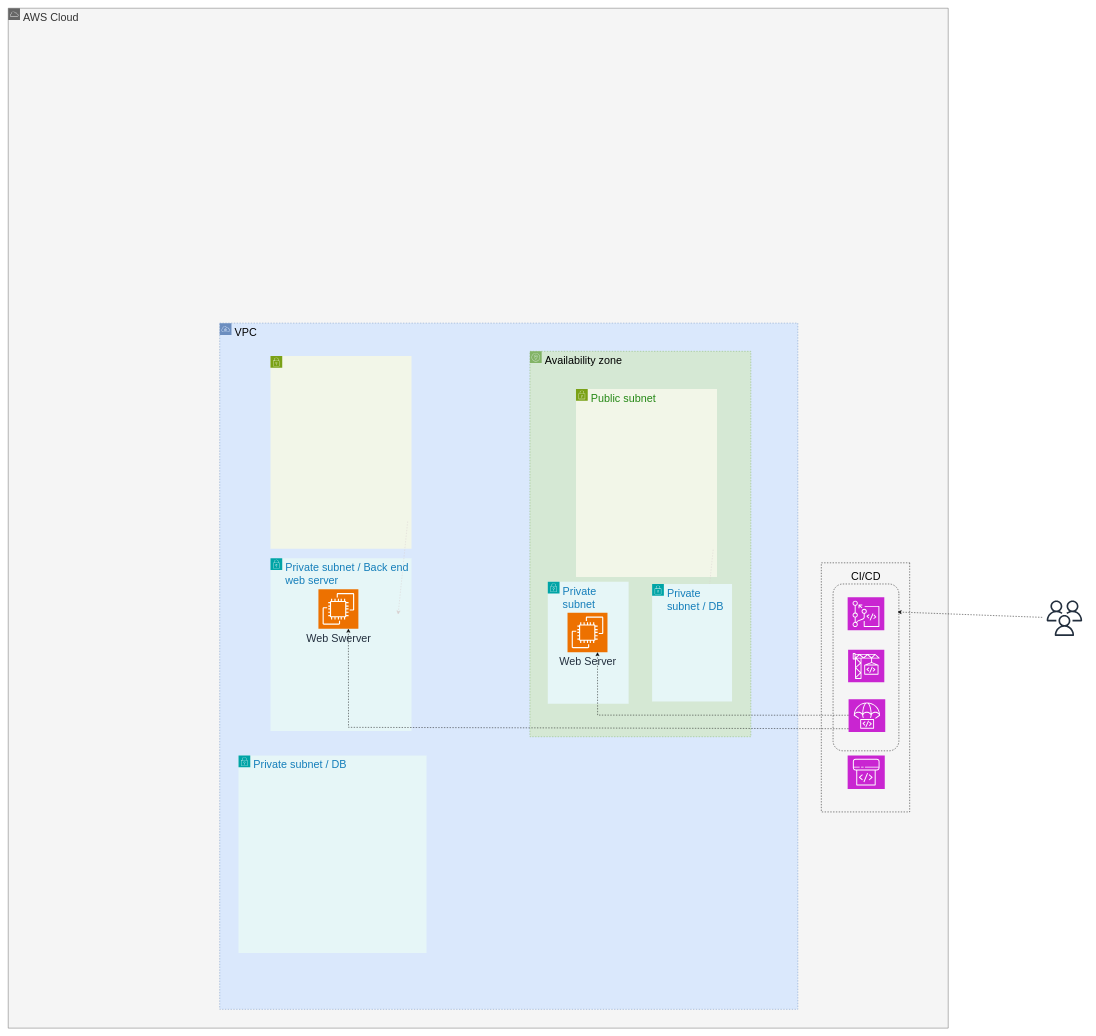
The diagram is 1096 pixels wide and 1036 high, and some of its shapes have lost their labels. The centre of each missing label's shape, as x and y in pixels:
"AWS CodeBuild" belongs at (866,665).
"AWS CodeCommit" belongs at (865,613).
"AWS CodeDeploy" belongs at (866,715).
"AWS PipeLine" belongs at (866,772).
"Dev team" belongs at (1064,618).
"Public subnet / front end app server" belongs at (340,452).
